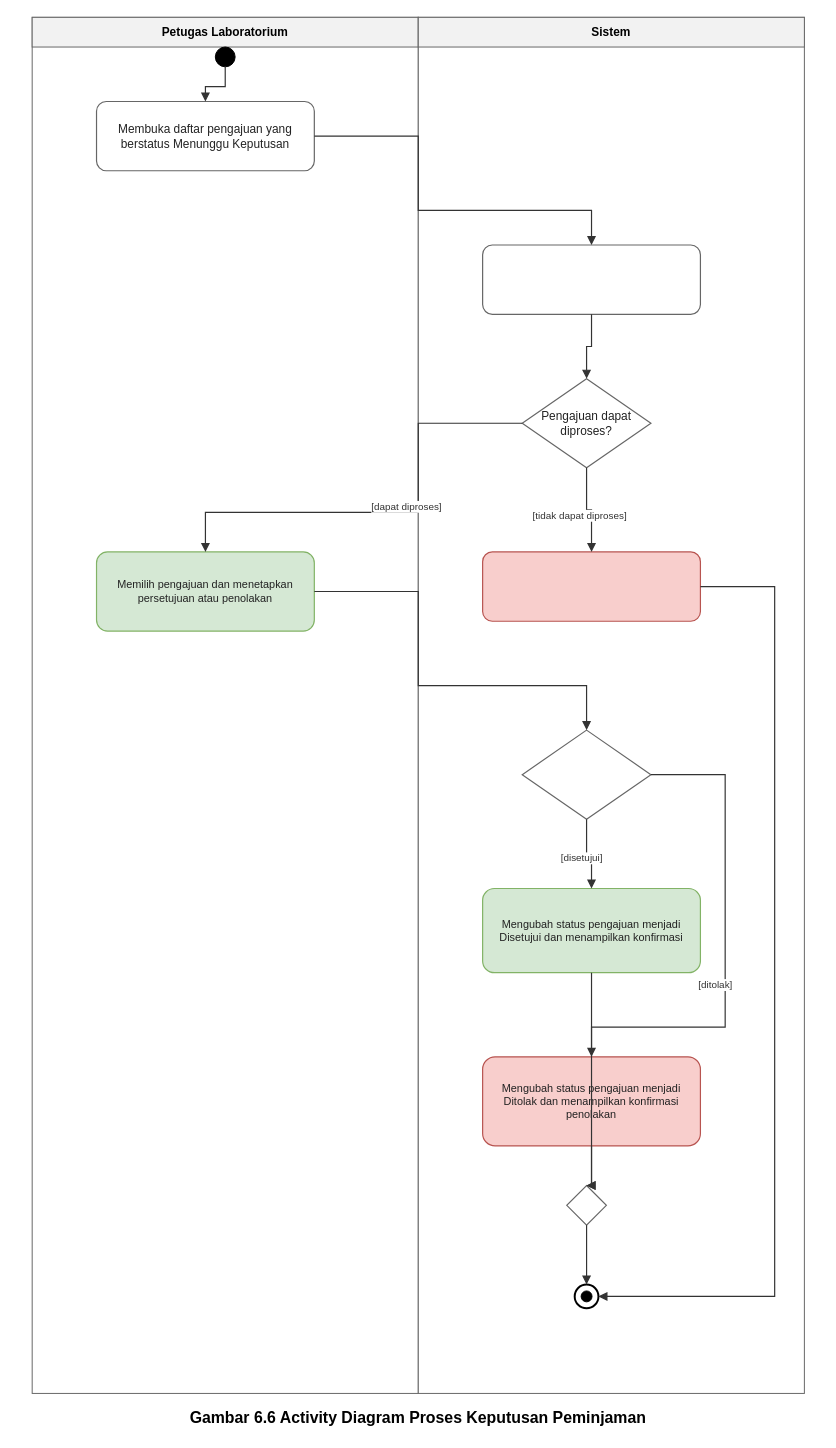
Some shapes in this 836 by 1448 pixel diagram are drawn without their labels. Each missing label, with the centre of its shape:
"Menampilkan daftar pengajuan yang berstatus Menunggu Keputusan" belongs at (591,279).
"Menampilkan pesan pengajuan tidak dapat diproses" belongs at (591,586).
"Pengajuan disetujui?" belongs at (586,774).
